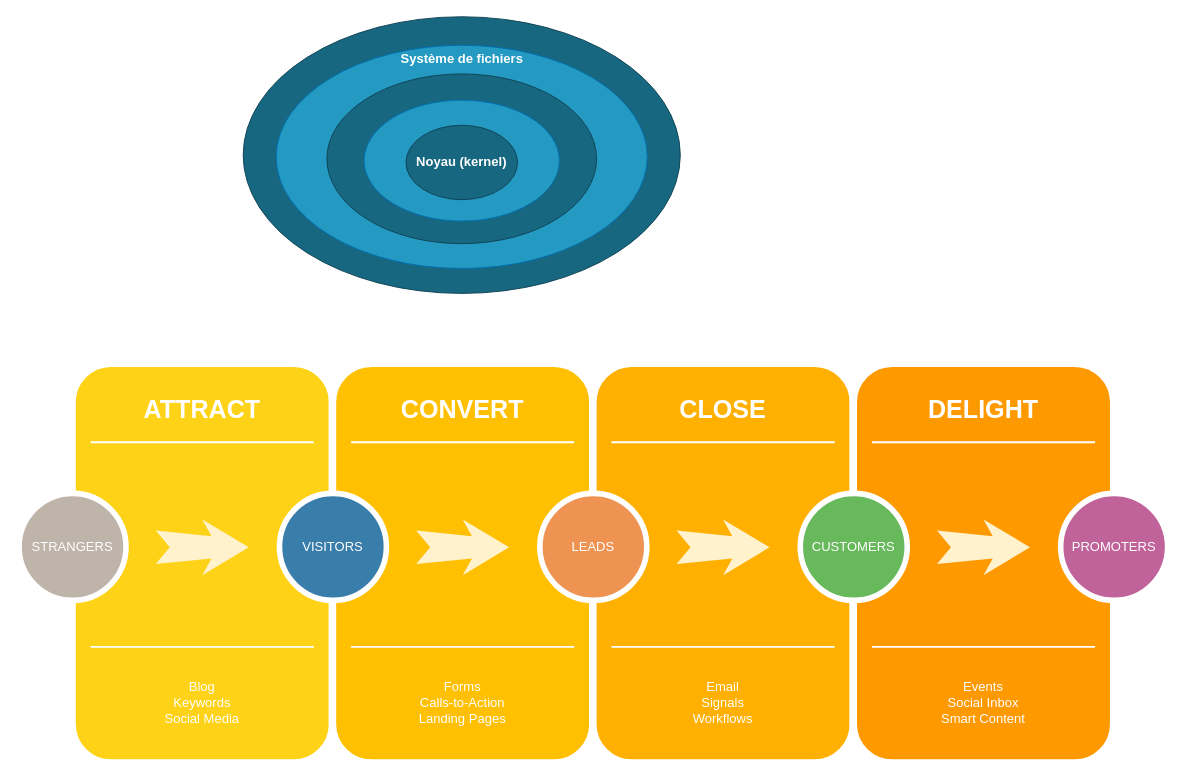
Some shapes in this 1186 by 782 pixel diagram are drawn without their labels. Here are the shapes that lost their labels. From the top down, the box of each, then its label:
(242, 16, 680, 293): Programmes
(363, 99, 559, 221): Mémoire
(326, 73, 597, 244): Entrées/Sorties
